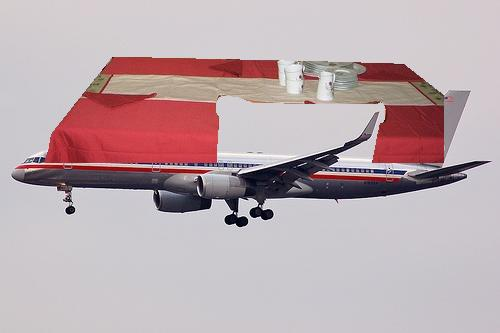tampered: (45, 58, 444, 163)
